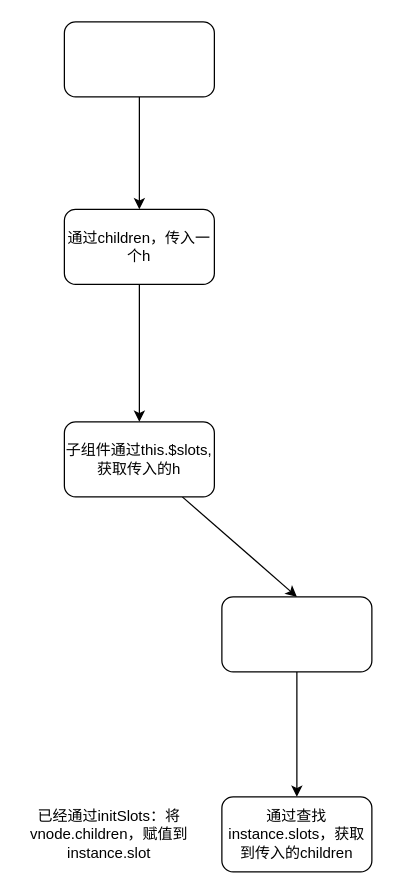
This 394x894 diagram has some shape labels left out. Each missing label, with the box of its shape:
父组件: (63, 21, 214, 97)
触发proxy代理对象的get: (221, 596, 372, 672)
